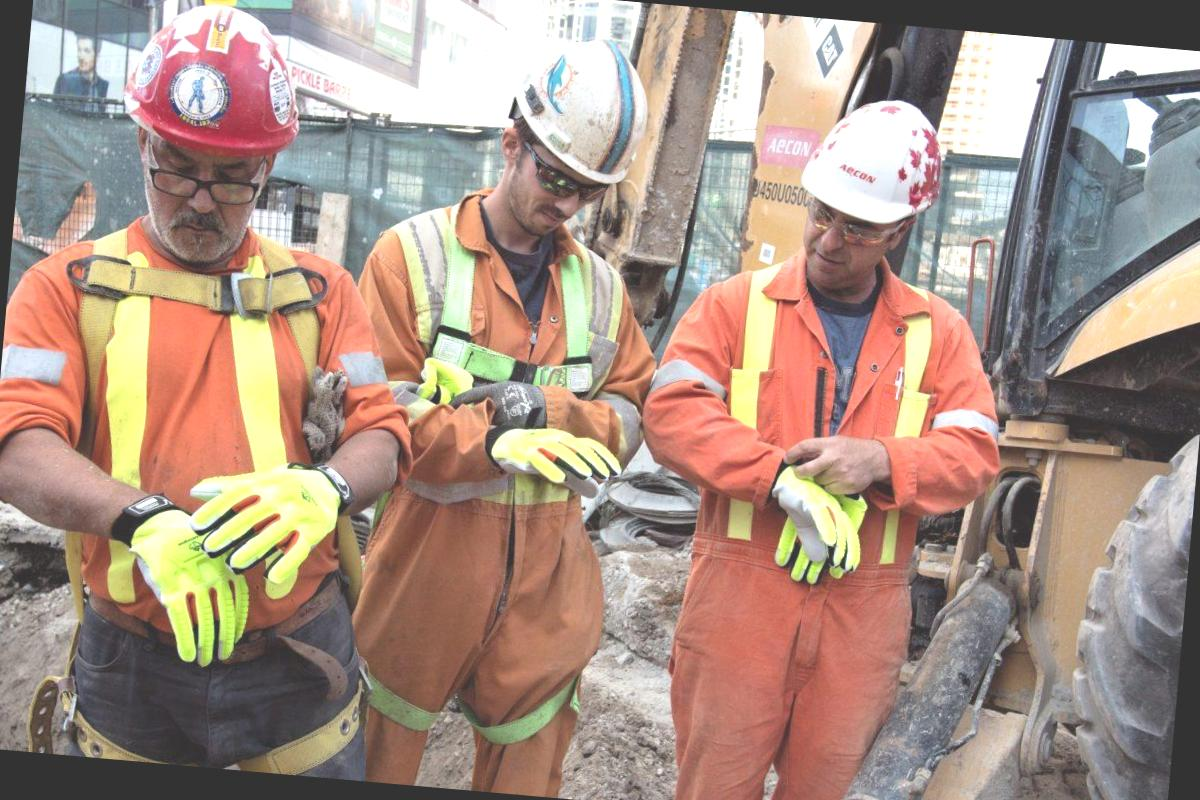helmet: (110, 0, 323, 171), (788, 75, 953, 241), (494, 30, 658, 194)
person: (302, 10, 683, 800), (13, 0, 370, 741), (668, 80, 1030, 800)
